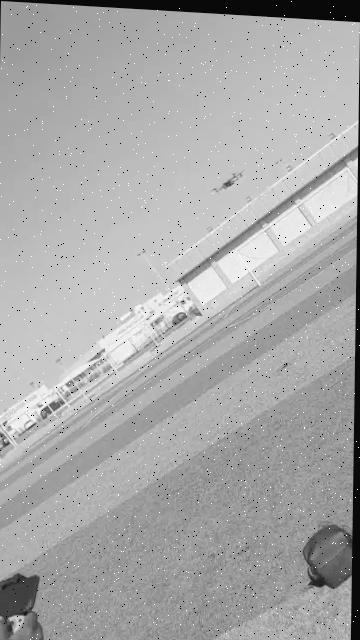drone: (208, 161, 248, 196)
